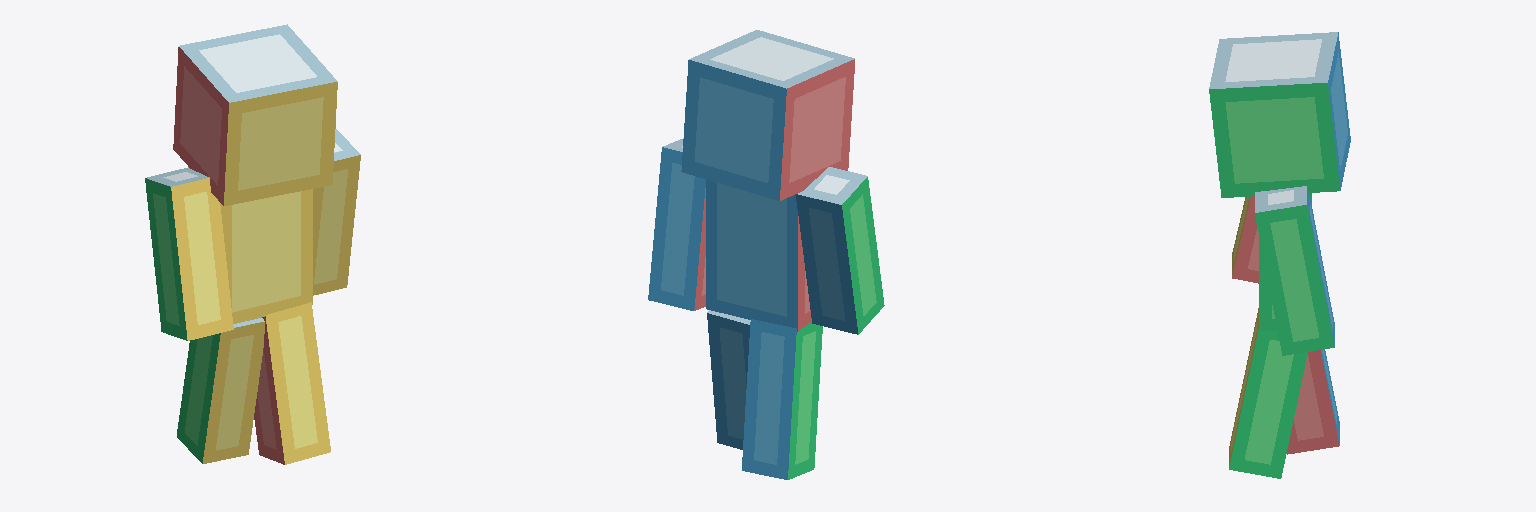
3 renders of one model, left to right at view 1: azimuth 30°, elevation 25°; view 2: azimuth 150°, elevation 25°; view 3: azimuth 270°, elevation 25°, orthographic.
Parts seen in each view (by area): view 1: Hat Layer, LeftArm, Body, LeftLeg, RightLeg, RightArm; view 2: Hat Layer, Body, LeftArm, LeftLeg, RightArm, RightLeg; view 3: Hat Layer, RightArm, RightLeg, LeftLeg, LeftArm, Body.
Part boxes in pixels (bbox=[...]): Hat Layer: bbox=[173, 24, 337, 205]; LeftArm: bbox=[145, 167, 233, 340]; Body: bbox=[220, 189, 312, 323]; LeftLeg: bbox=[177, 318, 264, 463]; RightLeg: bbox=[254, 302, 330, 464]; RightArm: bbox=[313, 129, 360, 295]; Hat Layer: bbox=[681, 30, 854, 200]; Body: bbox=[706, 180, 811, 331]; LeftArm: bbox=[796, 167, 884, 334]; LeftLeg: bbox=[742, 319, 822, 479]; RightArm: bbox=[648, 138, 705, 310]; RightLeg: bbox=[707, 310, 750, 449]; Hat Layer: bbox=[1209, 32, 1350, 197]; RightArm: bbox=[1255, 186, 1334, 355]; RightLeg: bbox=[1229, 308, 1307, 478]; LeftLeg: bbox=[1287, 349, 1339, 454]; LeftArm: bbox=[1232, 196, 1258, 283]; Body: bbox=[1259, 193, 1311, 330].
Bounding box in the file's own units: 1 × 2.07 × 0.6649.
Materials: 1 (1 with a texture image).